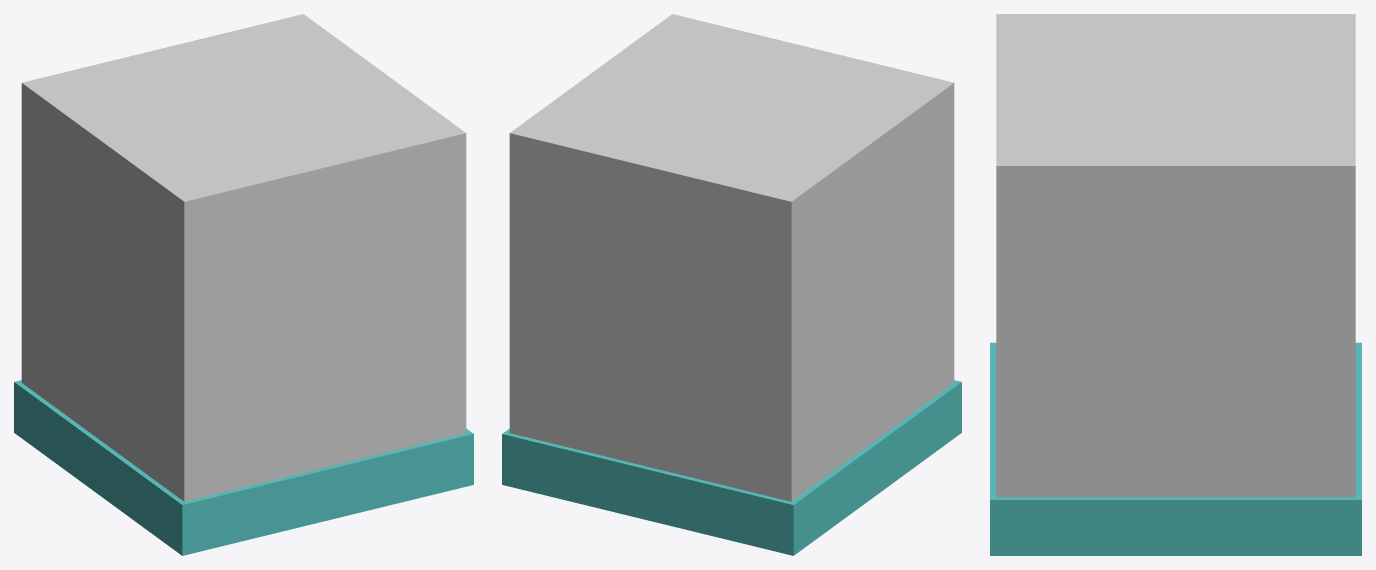
File: astronauta_retro_manga_sup.glb
3 views of the same model, side by side, from view 1: azimuth 30°, elevation 25°; view 2: azimuth 150°, elevation 25°; view 3: azimuth 270°, elevation 25° (orthographic). The views are drawn at different scales.
Parts seen in each view (by area): view 1: astronauta_retro_manga_sup; view 2: astronauta_retro_manga_sup; view 3: astronauta_retro_manga_sup.
Part boxes in pixels (box(x1,y1,x2,y2)): astronauta_retro_manga_sup: box(14, 14, 473, 555); astronauta_retro_manga_sup: box(502, 14, 961, 555); astronauta_retro_manga_sup: box(990, 14, 1361, 555).
Bounding box in the file's own units: 0.3 × 0.345 × 0.3.
